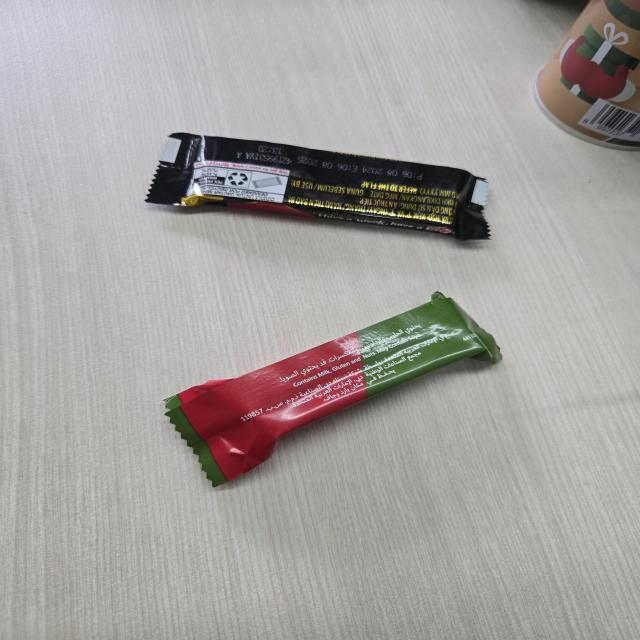chocolate-bar: (160, 290, 512, 492), (146, 123, 503, 252)
